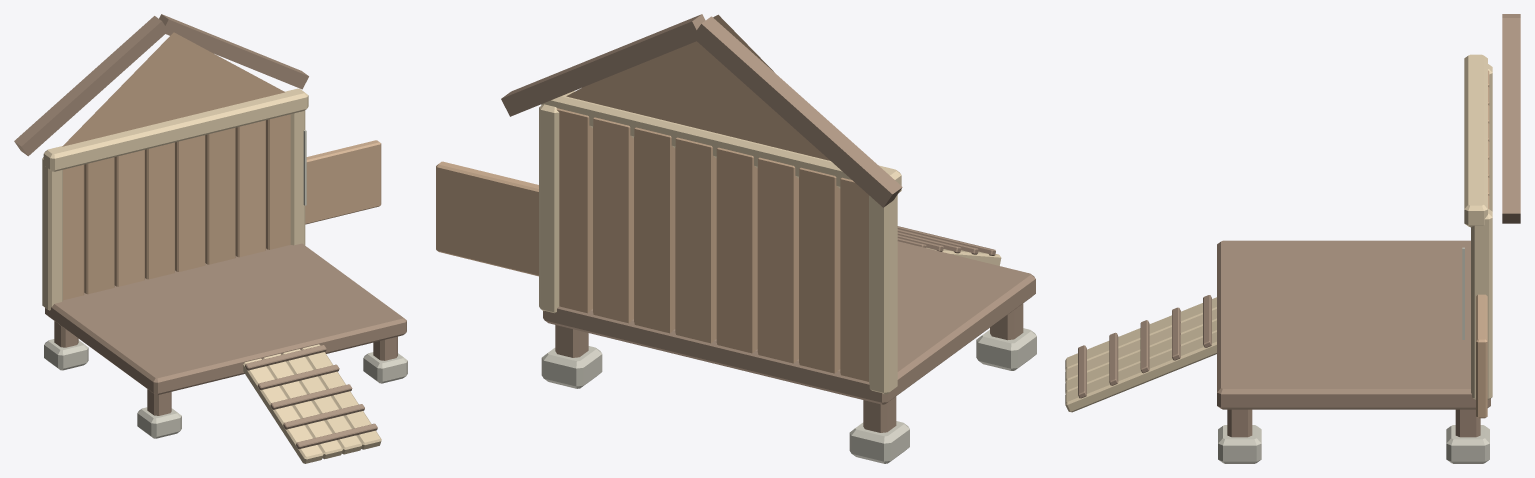
The model's file is crafted-coop-1-ready-back.glb.
The picture shows the model from 3 angles, left to right: view 1: azimuth 30°, elevation 25°; view 2: azimuth 150°, elevation 25°; view 3: azimuth 270°, elevation 25°; orthographic projection. The views are drawn at different scales.
Visible parts, largest first — view 1: floor, gable, header, nest-cheek, barge-board, siding-1, siding-6, siding-2, siding-5, siding-4, siding-3, siding-7 (+19 smaller); view 2: floor, gable, nest-cheek, siding-2, siding-3, siding-1, siding-4, siding-5, siding-6, barge-board, siding-7, siding (+10 smaller); view 3: floor, header, barge-board-2, ramp-board-3, corner-post-2, nest-cheek, stone-foot-2, stone-foot-3, ramp-board-1, ramp-board-2, ramp-board, raised-foot-3 (+7 smaller).
Boxes of the visible parts, left/top/right/bottom form: floor: left=45, top=243, right=406, bottom=395; gable: left=62, top=32, right=284, bottom=146; header: left=43, top=88, right=308, bottom=171; nest-cheek: left=305, top=140, right=381, bottom=224; barge-board: left=14, top=16, right=168, bottom=156; siding-1: left=84, top=157, right=114, bottom=294; siding-6: left=235, top=120, right=265, bottom=257; siding-2: left=114, top=150, right=144, bottom=286; siding-5: left=205, top=127, right=235, bottom=264; siding-4: left=175, top=135, right=205, bottom=271; siding-3: left=145, top=142, right=174, bottom=279; siding-7: left=266, top=114, right=290, bottom=249; floor: left=543, top=241, right=1035, bottom=404; gable: left=566, top=14, right=830, bottom=160; nest-cheek: left=436, top=161, right=538, bottom=276; siding-2: left=757, top=157, right=798, bottom=363; siding-3: left=716, top=147, right=757, bottom=353; siding-1: left=799, top=167, right=840, bottom=373; siding-4: left=675, top=137, right=716, bottom=343; siding-5: left=634, top=127, right=675, bottom=333; siding-6: left=593, top=117, right=633, bottom=323; barge-board: left=692, top=16, right=902, bottom=207; siding-7: left=556, top=108, right=592, bottom=313; siding: left=840, top=177, right=868, bottom=381; floor: left=1217, top=240, right=1490, bottom=409; header: left=1464, top=54, right=1487, bottom=227; barge-board-2: left=1502, top=18, right=1520, bottom=223; ramp-board-3: left=1065, top=332, right=1216, bottom=412; corner-post-2: left=1471, top=209, right=1492, bottom=399; nest-cheek: left=1476, top=294, right=1487, bottom=418; stone-foot-2: left=1446, top=425, right=1489, bottom=463; stone-foot-3: left=1218, top=425, right=1261, bottom=463; ramp-board-1: left=1065, top=309, right=1216, bottom=382; ramp-board-2: left=1065, top=320, right=1216, bottom=393; ramp-board: left=1065, top=297, right=1216, bottom=370; raised-foot-3: left=1227, top=409, right=1252, bottom=437.
Size of the model in its own units: 2.17 by 1.81 by 1.99.
